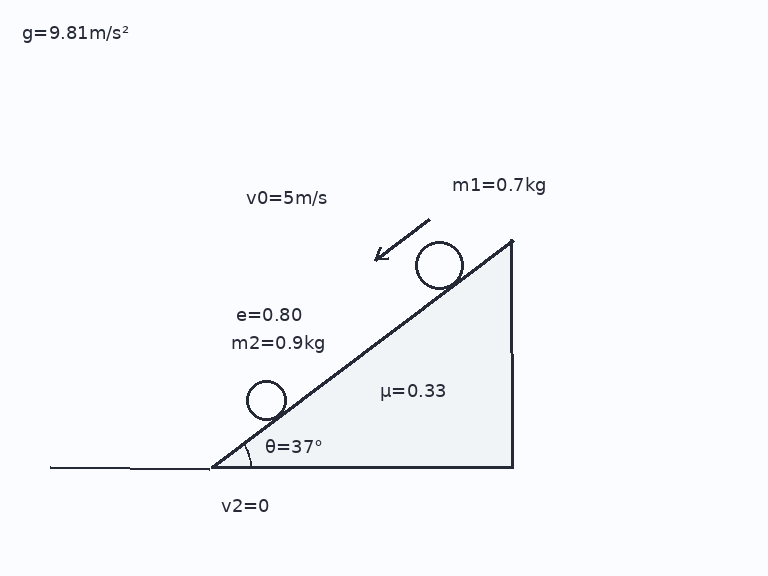ball: (413, 239, 465, 291), (244, 378, 288, 422)
ramp: (209, 238, 514, 469)
